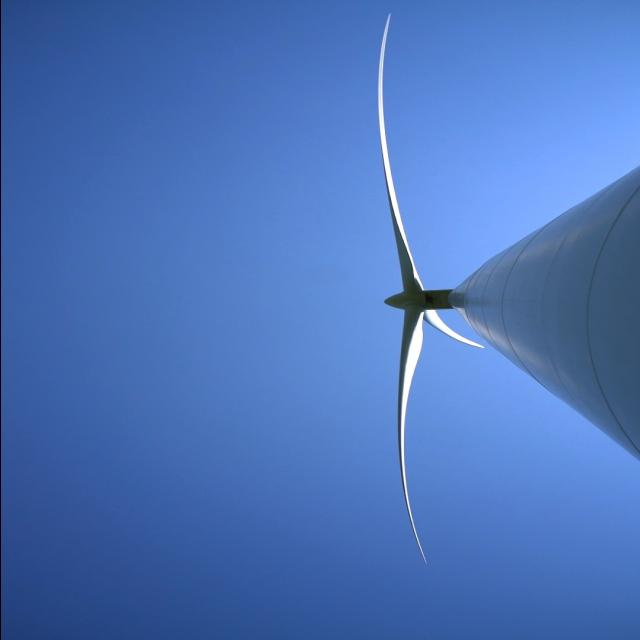blade 1: (388, 330, 440, 596)
blade 2: (424, 308, 460, 328)
blade 3: (348, 9, 421, 259)
